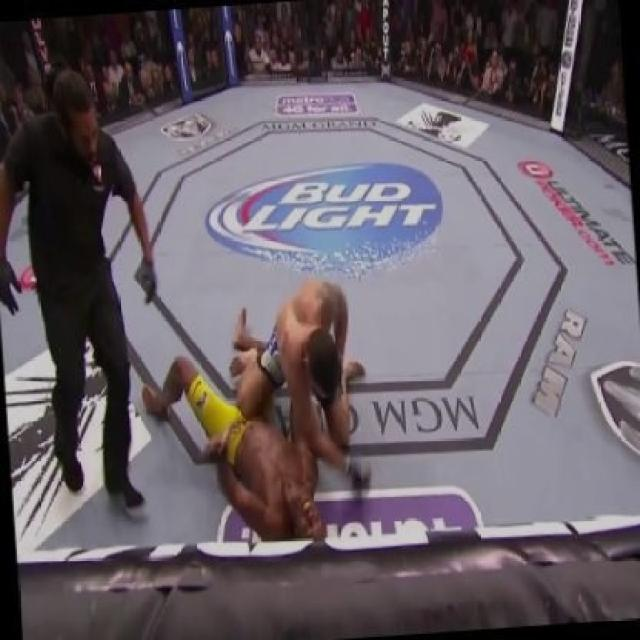fight: (144, 279, 373, 542)
non-fight: (0, 68, 159, 516)
